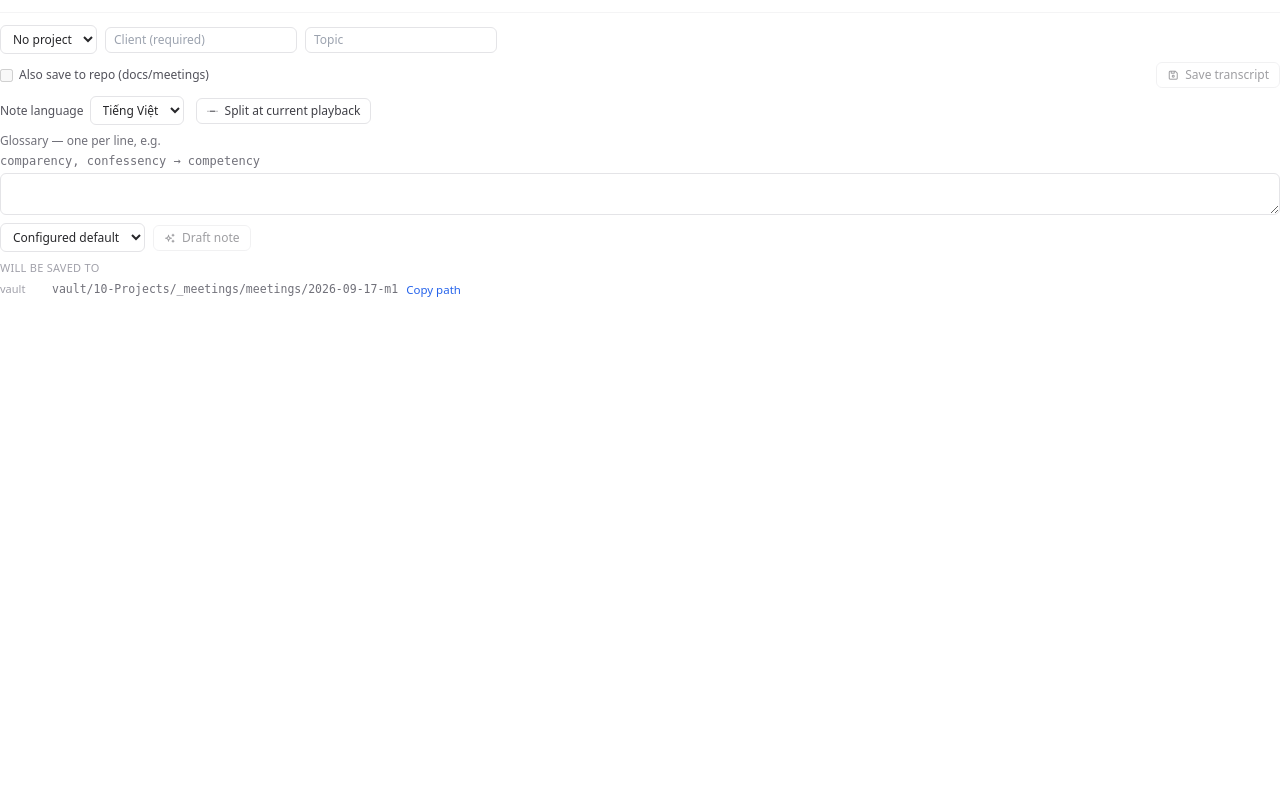
Test: the note preview › renders markdown rather than showing its syntax
Step 1. Select "mantu" in the dropdown named "Project or workspace" → (48, 40), box x1=0 y1=25 x2=97 y2=54
Step 2. Type "Chị Kate" into the field labelled "Client" → (201, 40), box x1=105 y1=26 x2=297 y2=52
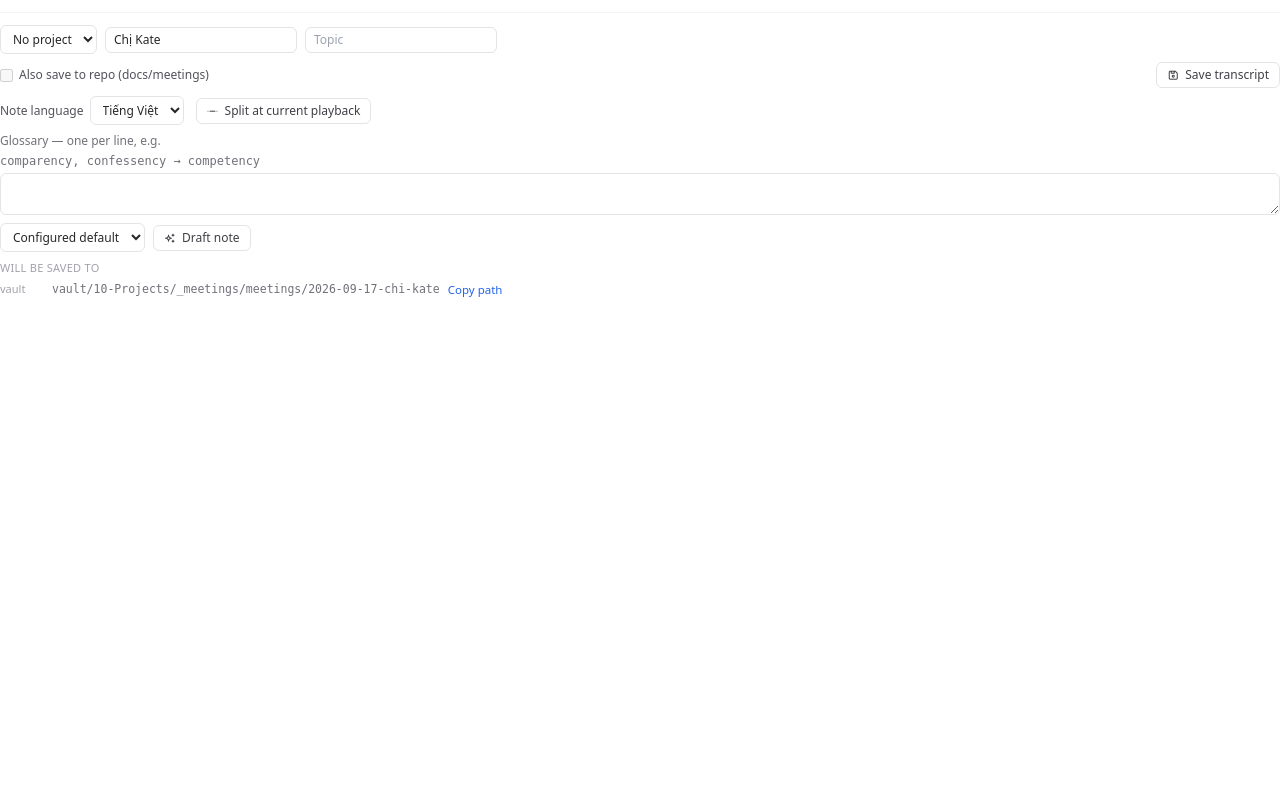
Step 3. Click the button "Draft note" → (202, 238), box x1=153 y1=224 x2=251 y2=250
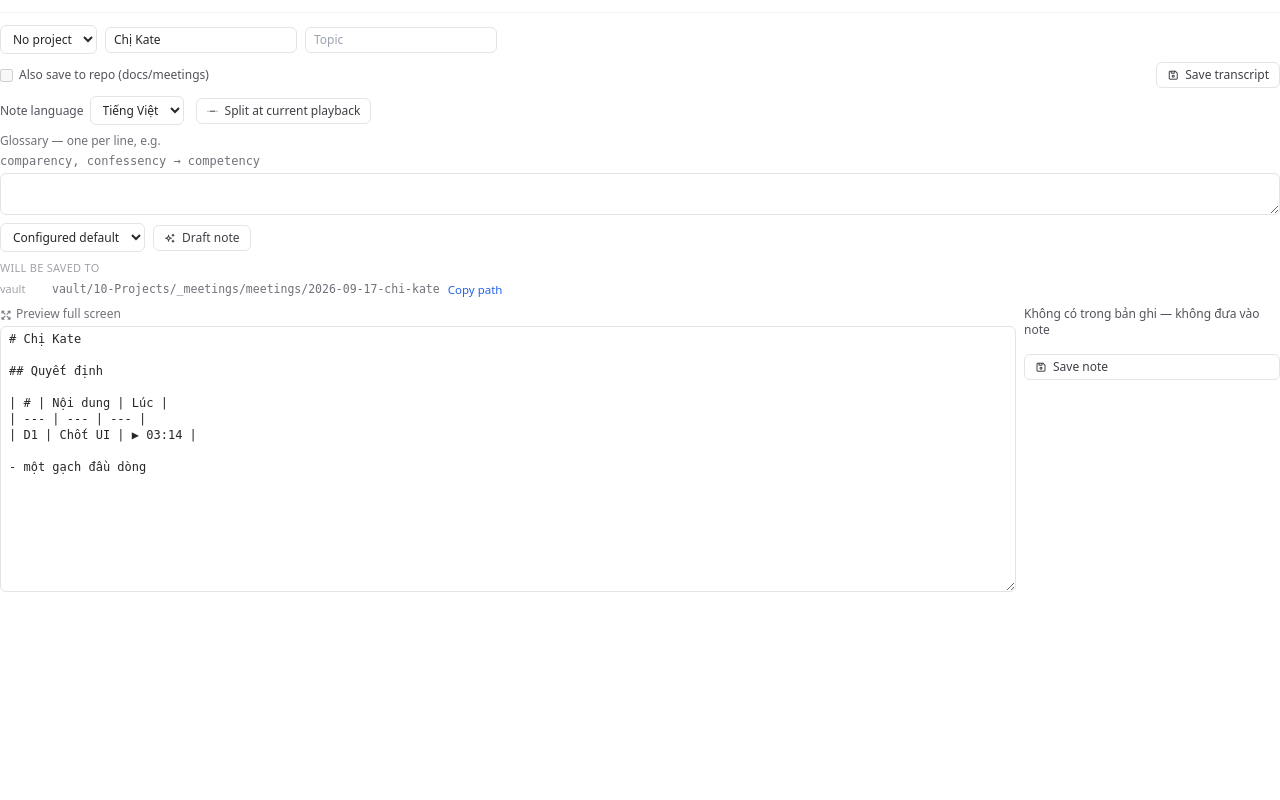
Step 4. Click the button with test id "note-preview-open" → (60, 314), box x1=0 y1=306 x2=121 y2=322
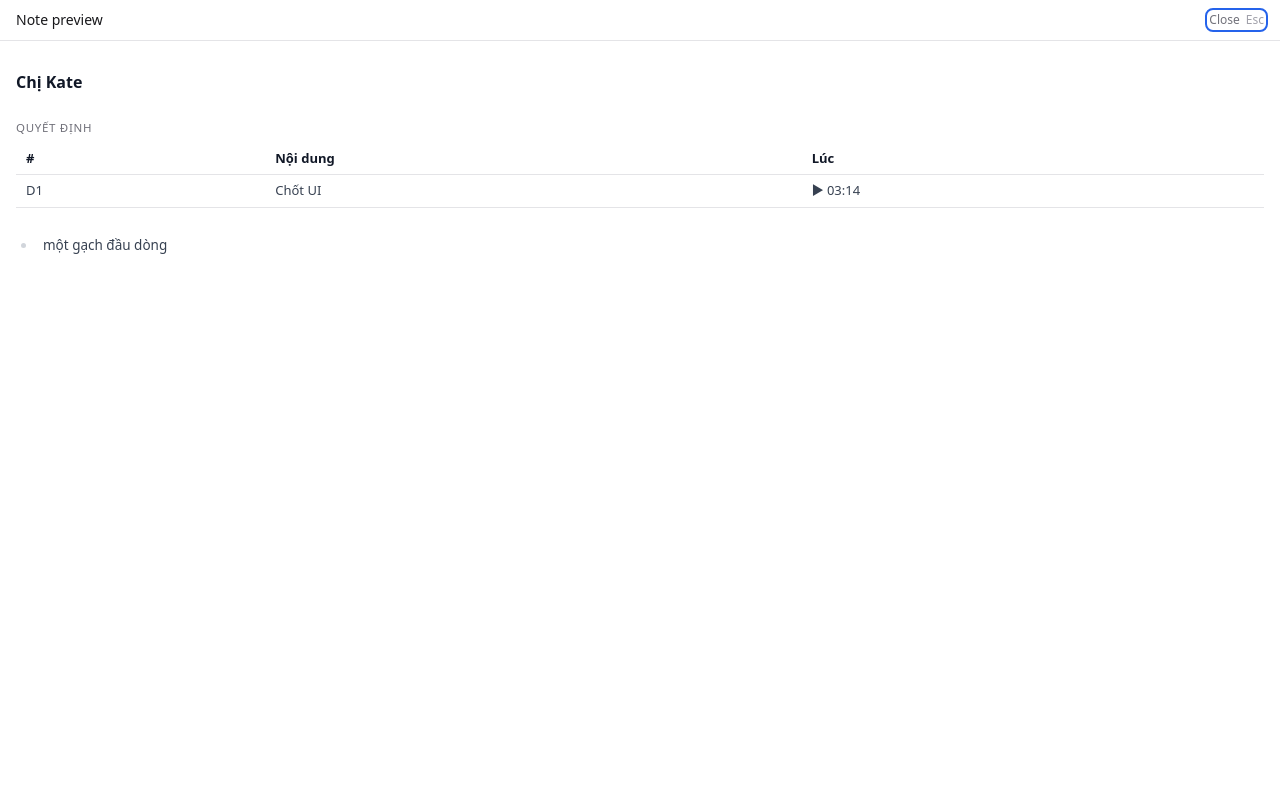
Expected: the table is shown, x1=16 y1=143 x2=1264 y2=208
Expected: the heading "Quyết định" is shown, x1=16 y1=120 x2=92 y2=135
Expected: the list item reads "một gạch đầu dòng", x1=43 y1=236 x2=167 y2=254
